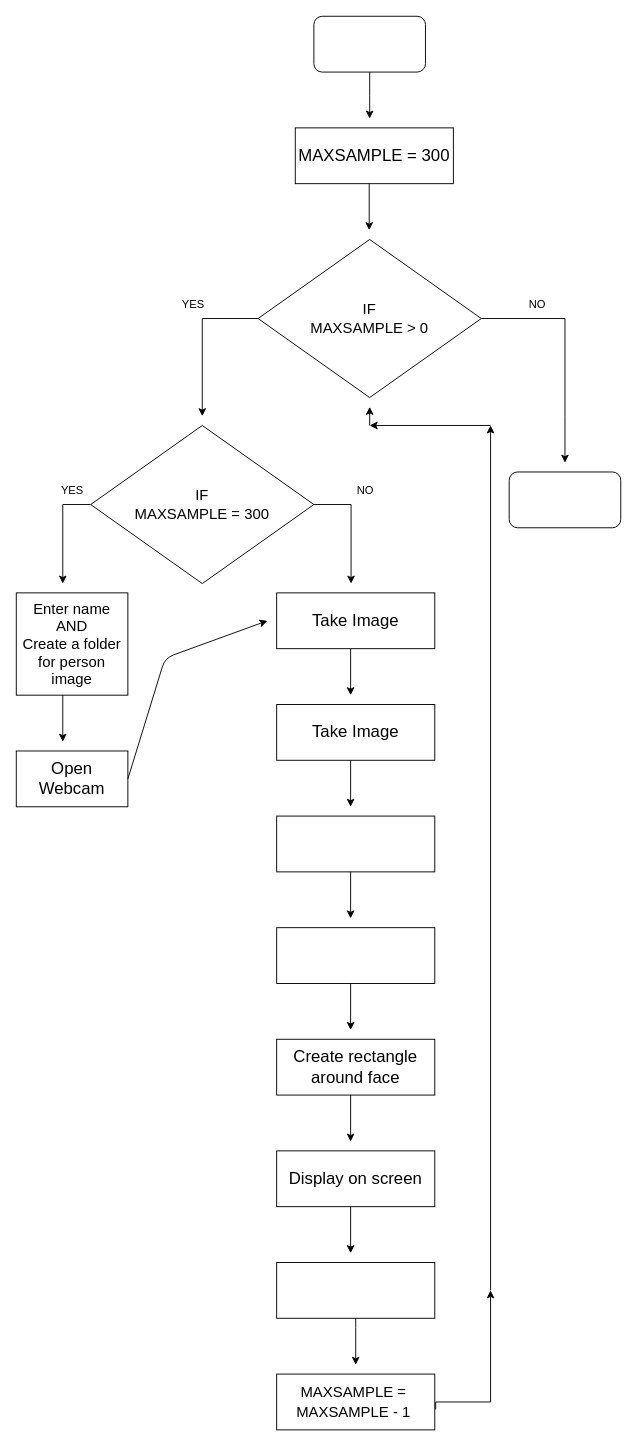
This 637x1446 diagram has some shape labels left out. Here are the shapes that lost their labels. From the top down, the box of each, then its label:
(313, 15, 425, 72): Start
(508, 471, 621, 528): END
(276, 815, 435, 872): Convert to gray
(276, 927, 435, 983): Detect face
(276, 1262, 435, 1318): Save Image on person's folder
